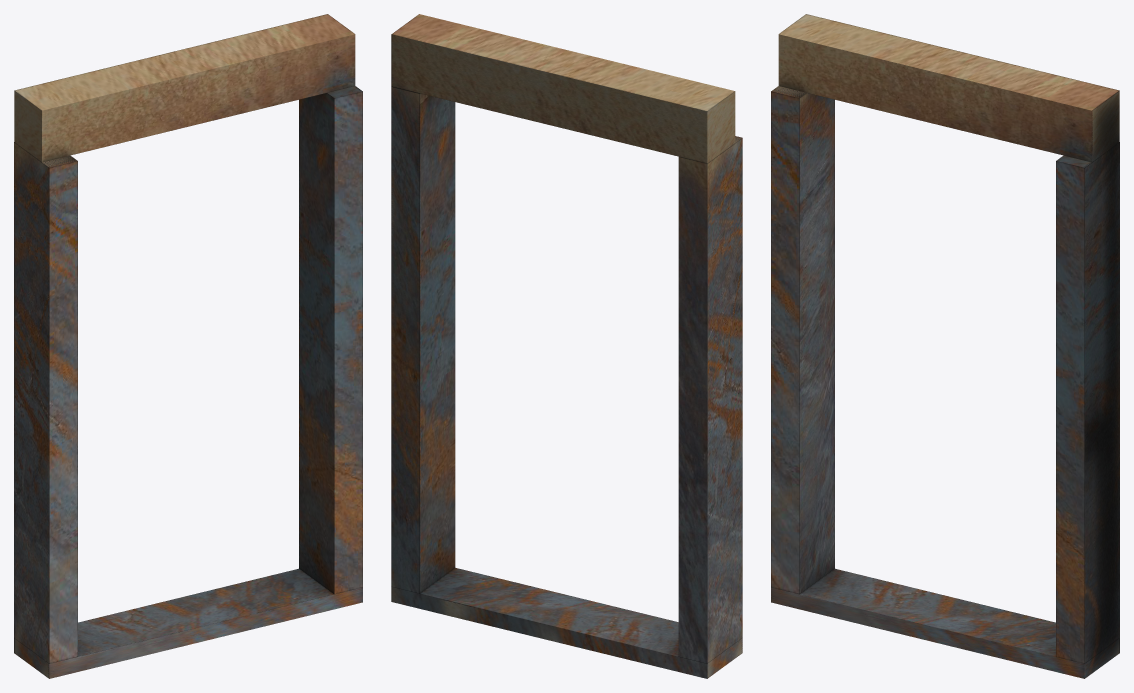
The model's file is D_Entrance.fbx.
The picture shows the model from 3 angles, left to right: view 1: azimuth 30°, elevation 25°; view 2: azimuth 150°, elevation 25°; view 3: azimuth 330°, elevation 25°; orthographic projection.
Parts seen in each view (by area): view 1: pCube48; view 2: pCube48; view 3: pCube48.
Part boxes in pixels (x1=…): pCube48: x1=14, y1=14, x2=362, y2=678; pCube48: x1=391, y1=14, x2=742, y2=678; pCube48: x1=771, y1=14, x2=1119, y2=678.
Bounding box in the file's own units: 3.12 × 5.34 × 0.6061.
1 material, 1 textured.
